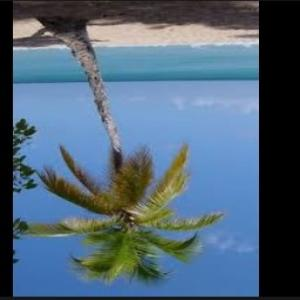palm tree: (12, 141, 224, 285)
